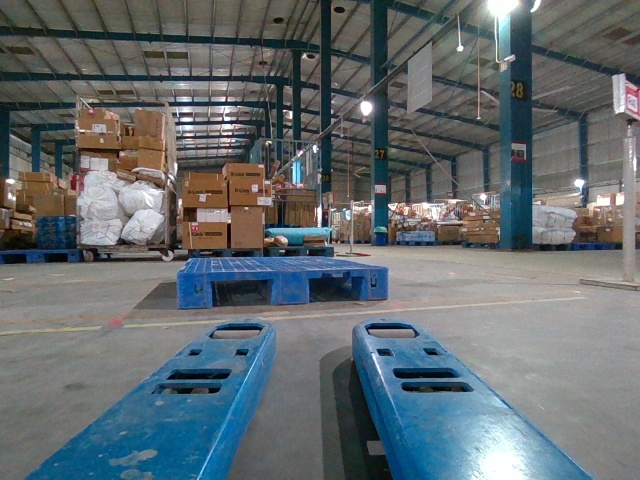block: (271, 266, 313, 308), (177, 270, 213, 310), (367, 265, 387, 299)
front: (178, 267, 389, 309)
hole pallet: (212, 270, 275, 308), (309, 268, 367, 300)
